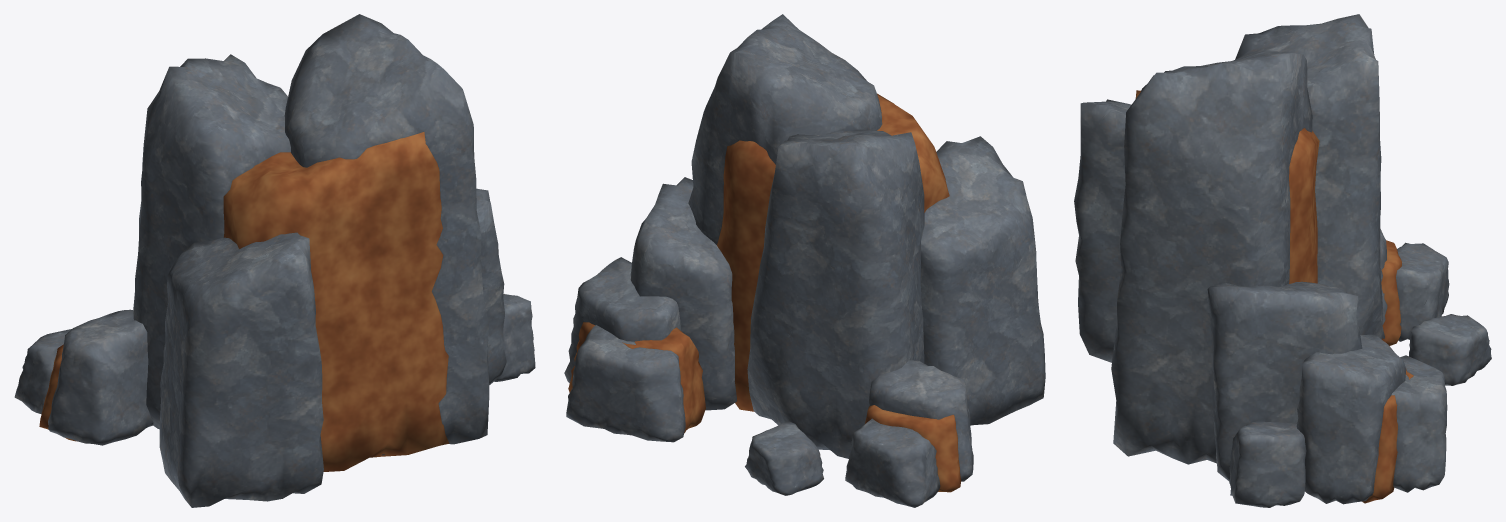
Rendered from IronOreResourceSource.fbx.
3 views of the same model, side by side, from view 1: azimuth 30°, elevation 25°; view 2: azimuth 150°, elevation 25°; view 3: azimuth 270°, elevation 25° (orthographic). The views are drawn at different scales.
Visible parts, largest first — view 1: IronOreSource; view 2: IronOreSource; view 3: IronOreSource.
Part boxes in pixels (x1=…): IronOreSource: x1=14, y1=14, x2=535, y2=507; IronOreSource: x1=564, y1=14, x2=1045, y2=507; IronOreSource: x1=1074, y1=14, x2=1491, y2=507.
Size of the model in its own units: 1.37 by 1.13 by 1.12.
Materials: 1 (1 with a texture image).
